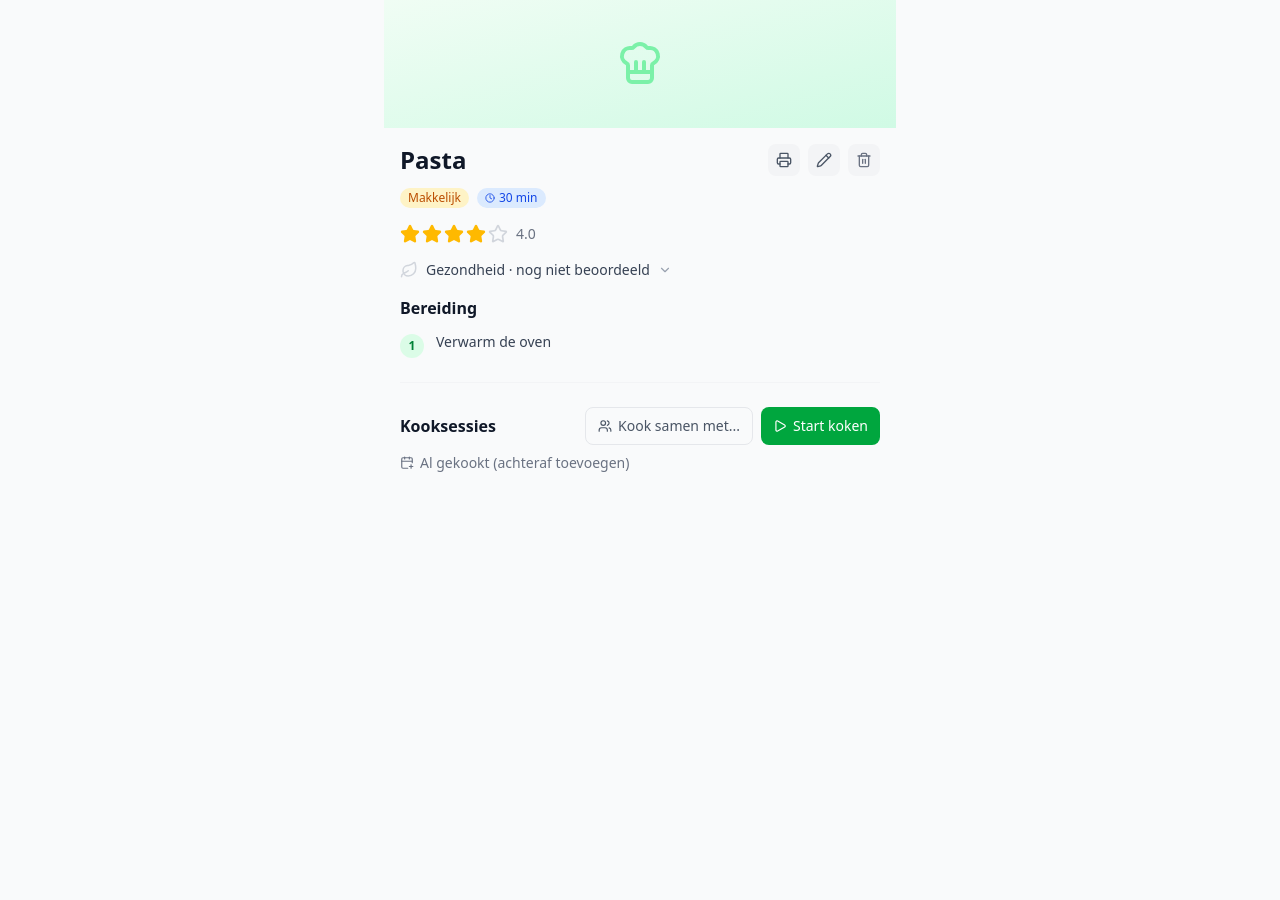
RecipeDetail "Kook samen met..." pairing › filters candidates by search text
Check: the heading "Pasta" is shown, box [400,144,466,176]
Click the button "Kook samen met..." at x=669, y=426, box [585,407,753,445]
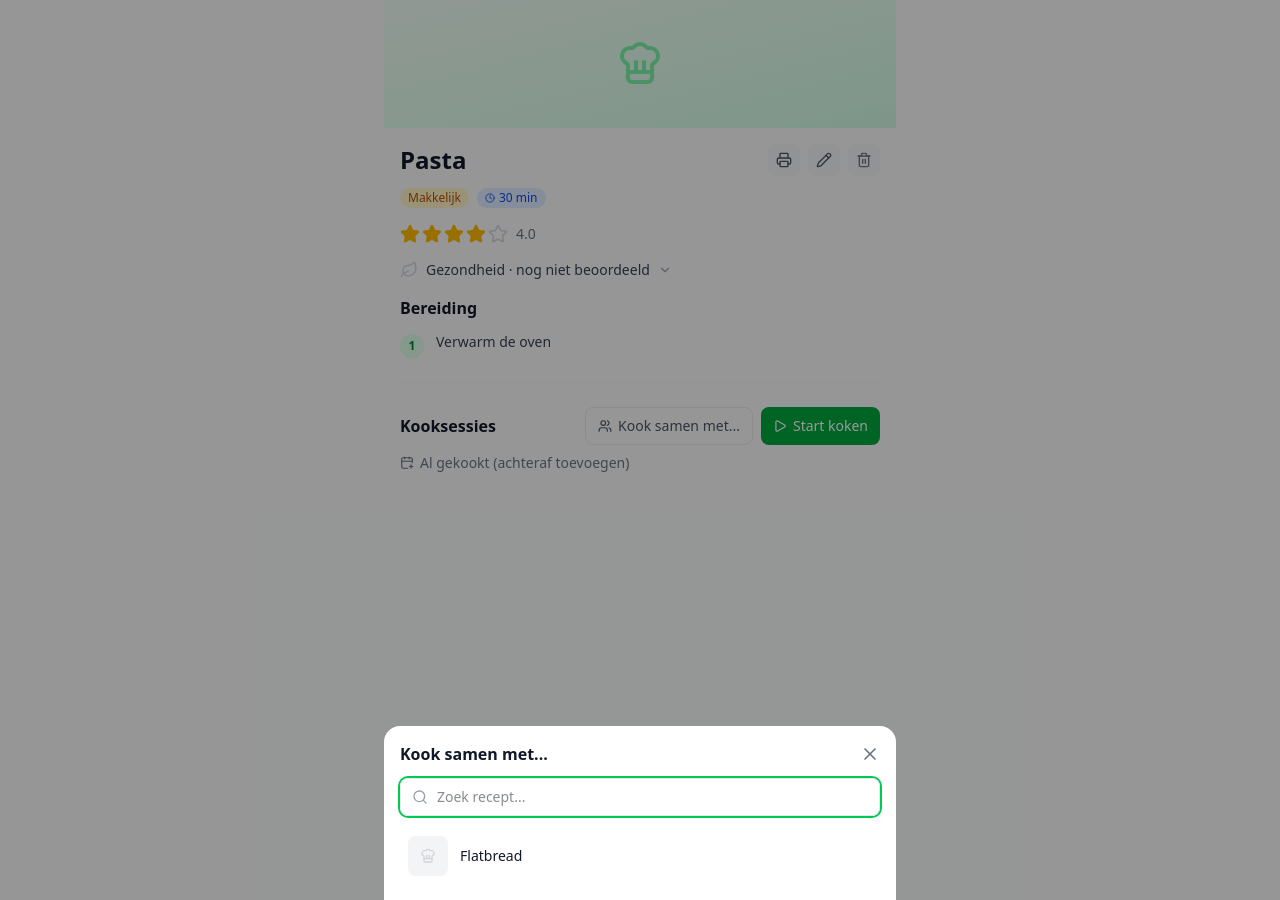
Check: the text "Flatbread" is shown, box [460,846,522,866]
Type "zzz" into the field with placeholder "Zoek recept..." at x=640, y=797, box [400,778,880,816]
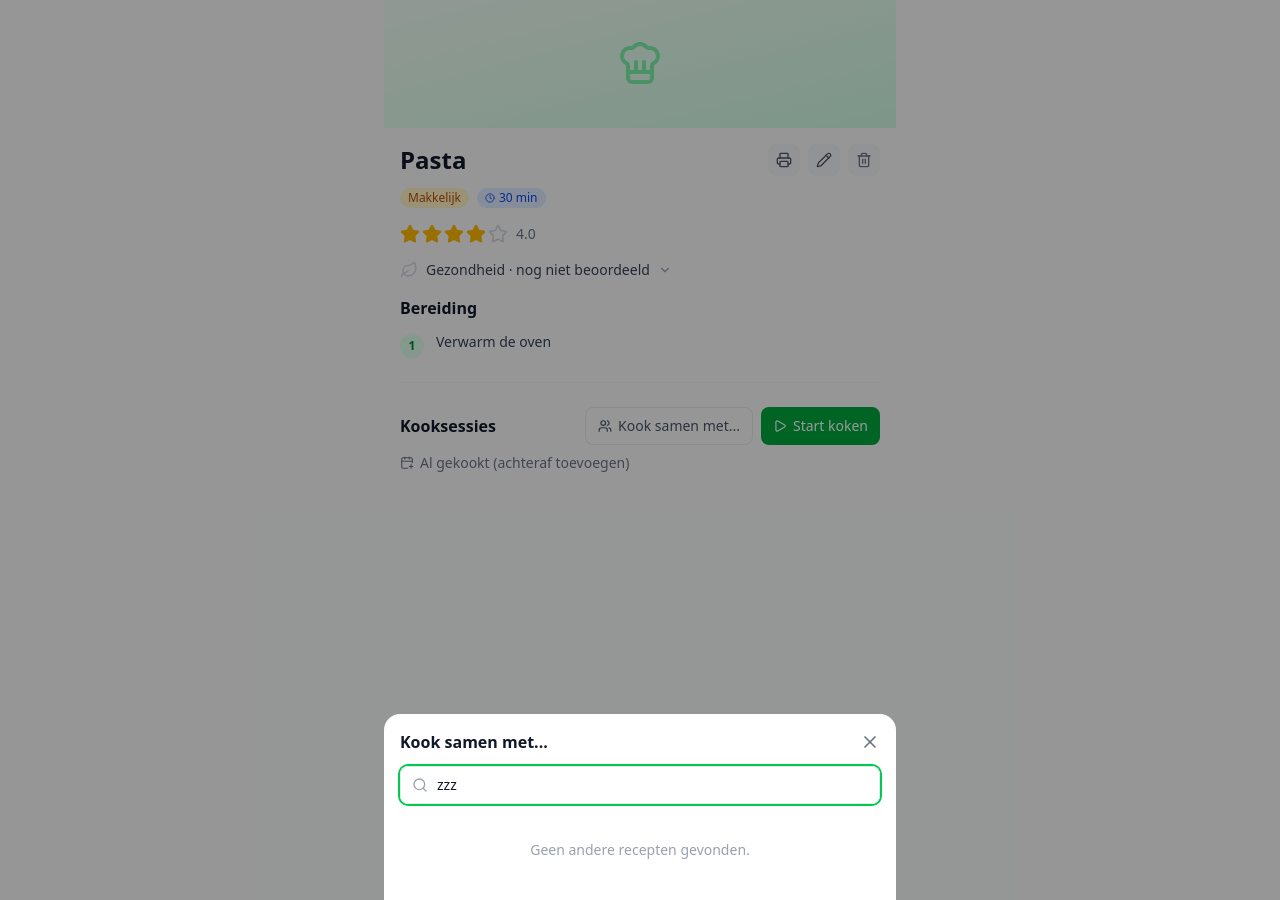
Check: the button "Flatbread" is gone
